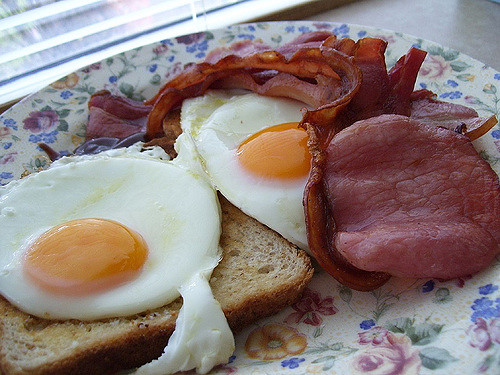fried egg: (1, 161, 208, 322), (182, 98, 310, 238)
slice of bread: (7, 224, 310, 373)
